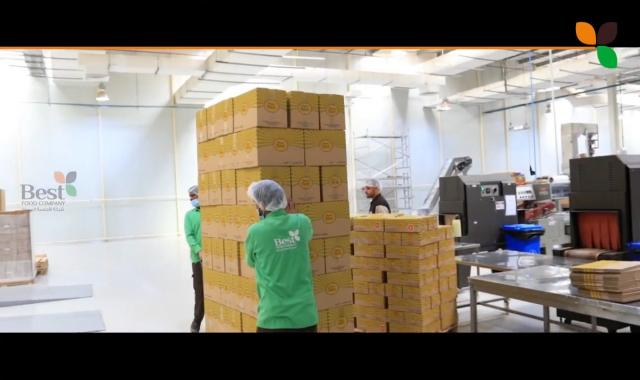hairnet: (250, 179, 288, 210), (363, 176, 382, 188), (187, 182, 200, 194)
